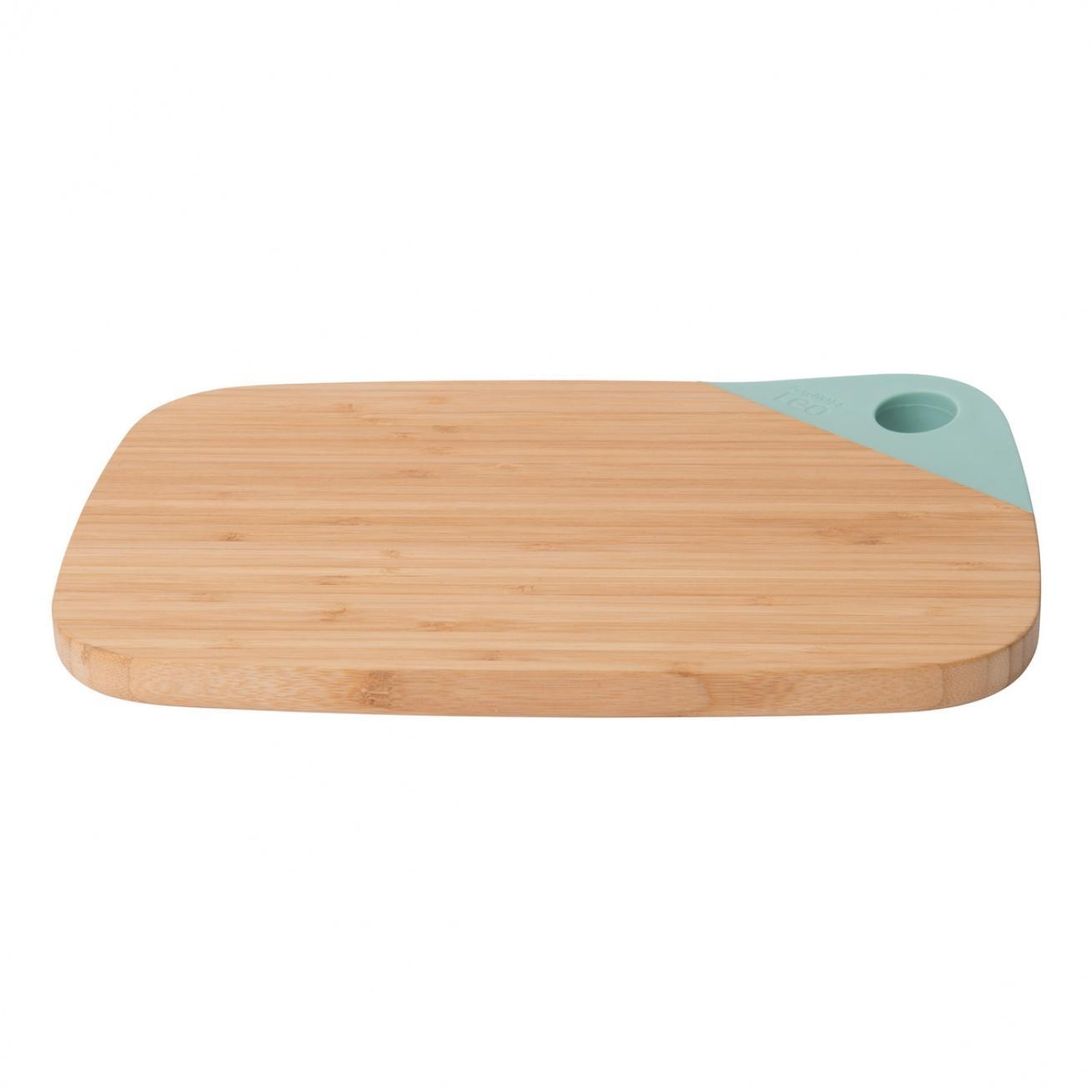gloved_hand: (45, 362, 1057, 738)
